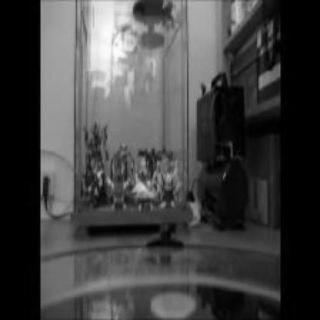other: (85, 10, 133, 78), (156, 146, 180, 187)
